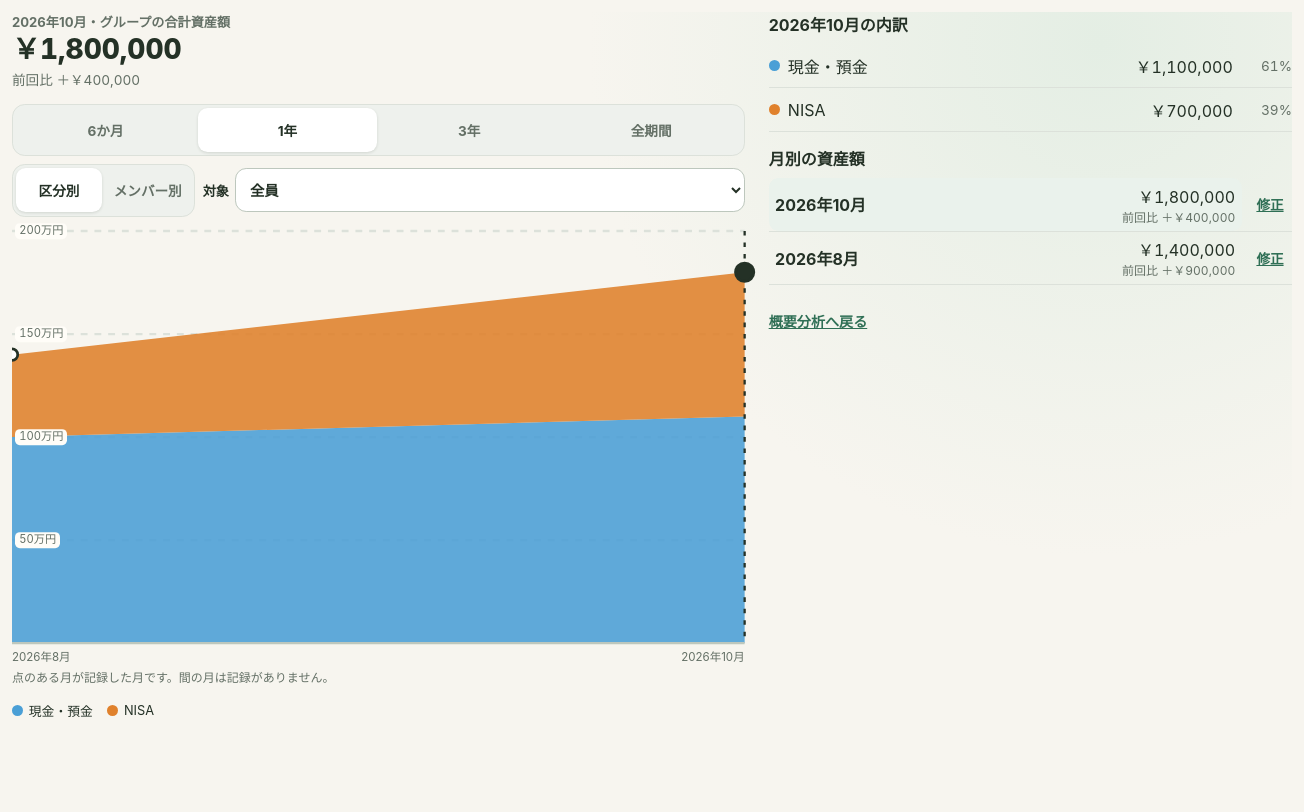
it: AssetTrendScreen › グラフは装飾で、表示期間と積み上げの切替はaria-pressedで示しサーバーへ要求しない (AC-AST-007-1、AC-AST-008-1)
The width and height of the screenshot is (1304, 812).
Click the button "全期間".
click(651, 130)  # box [562,108,740,152]
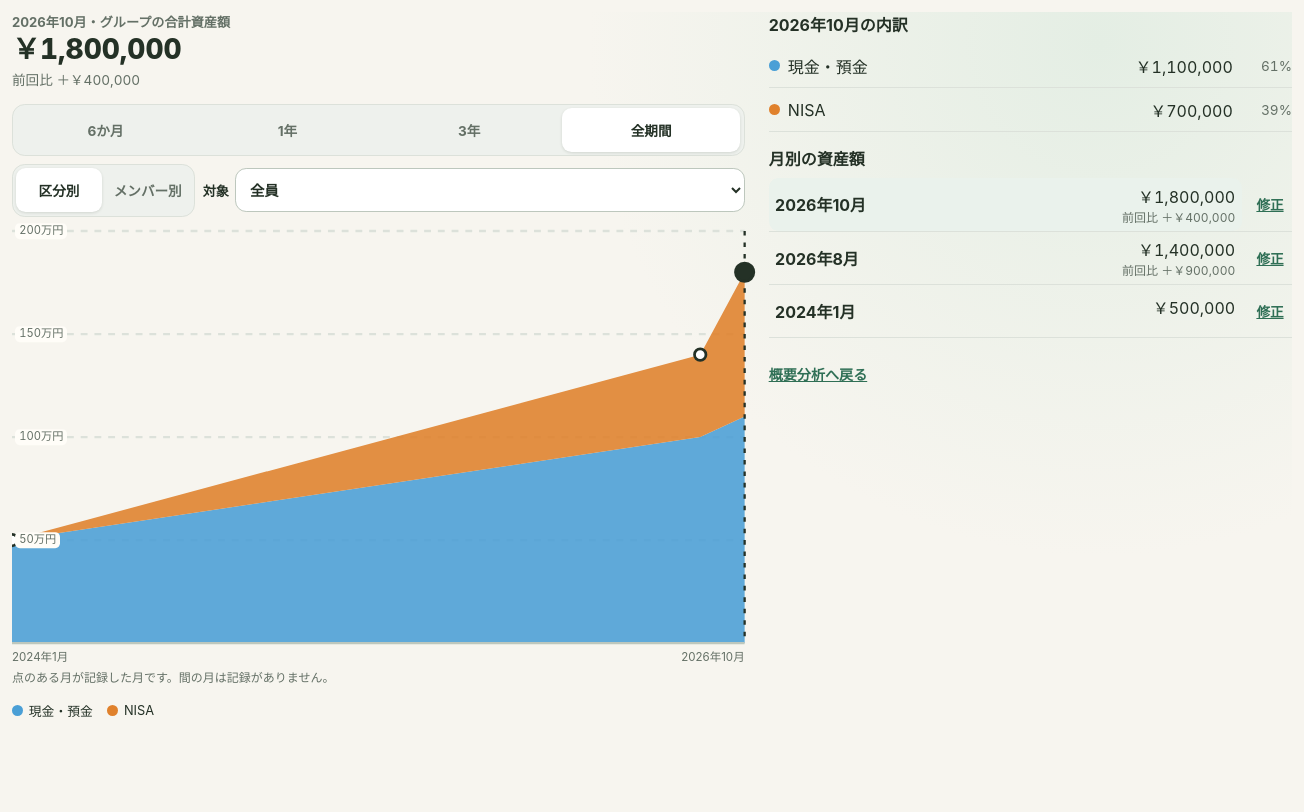
Click the button "メンバー別".
click(148, 190)  # box [105,168,190,212]
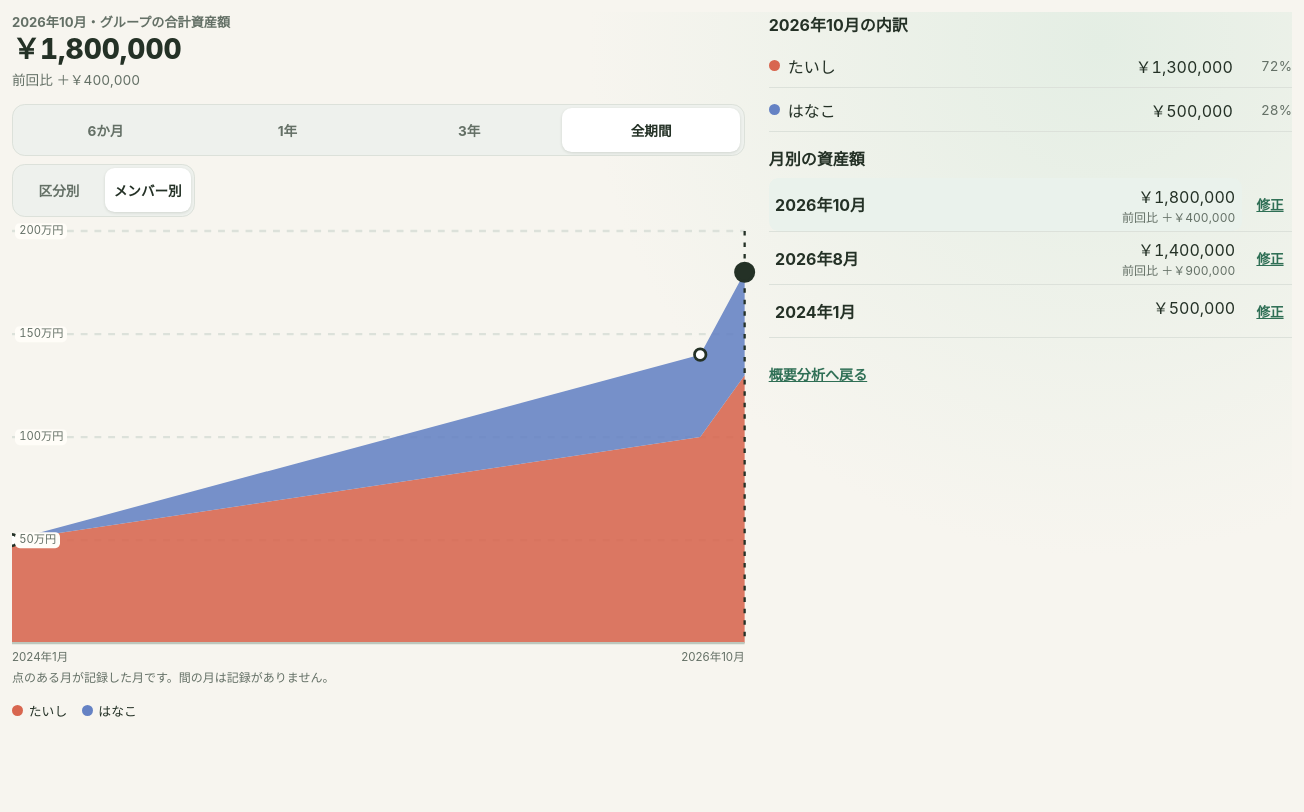
Check: the list named "凡例" reads "たいし はなこ", box [12,704,137,719]
Check: the text labelled "対象" is gone
